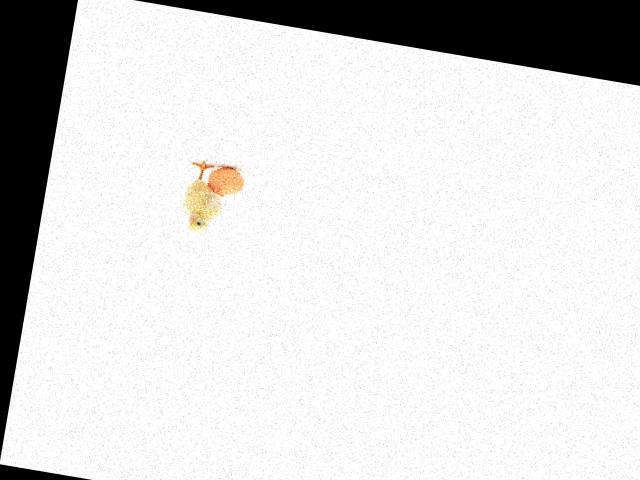egg: (205, 164, 246, 198)
